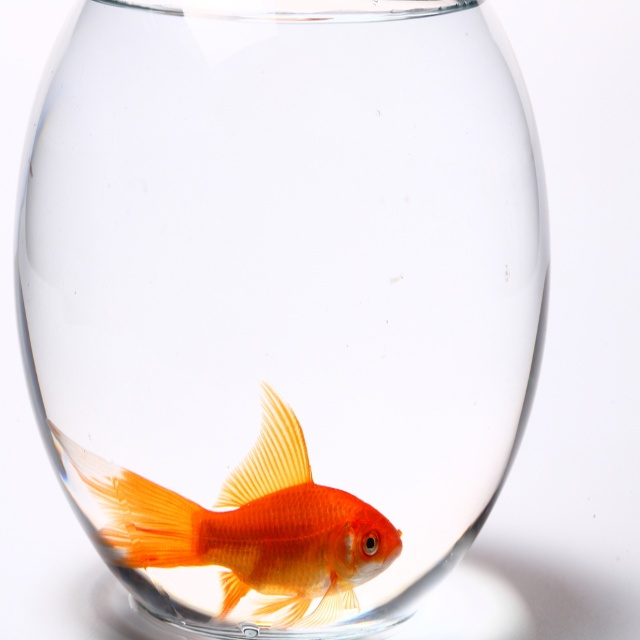Goldfish: (103, 390, 399, 622)
